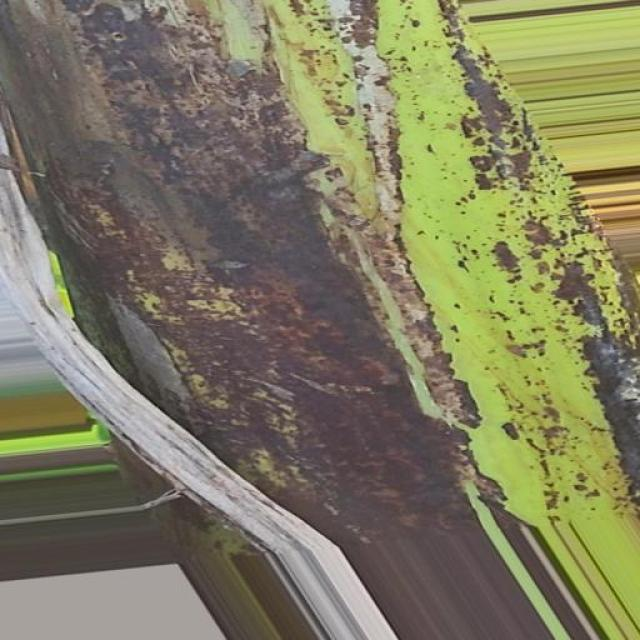Anthracnose: (4, 4, 640, 552)
